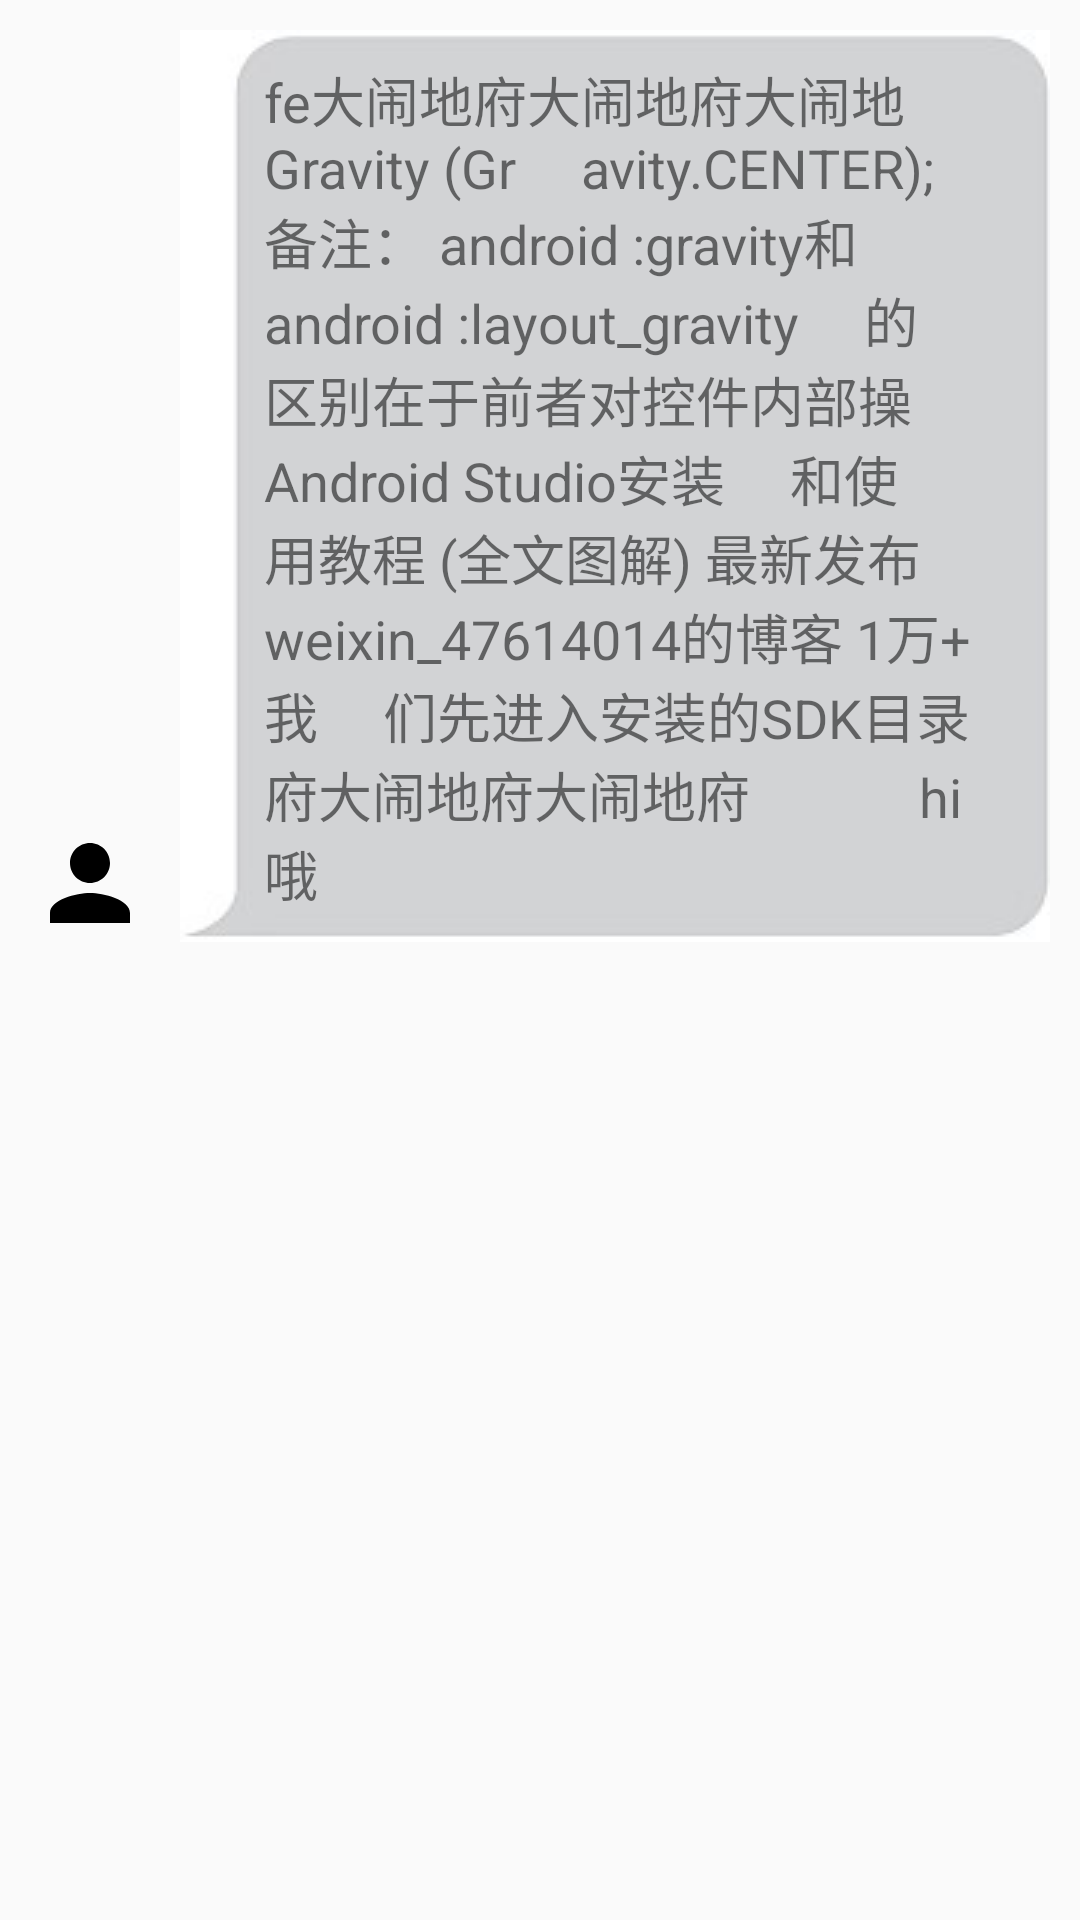

Locate icon controls on the screen. Image size 1080 x 1920, boxes as (x1, y1, x2, y2).
person: (50, 843, 130, 923)
